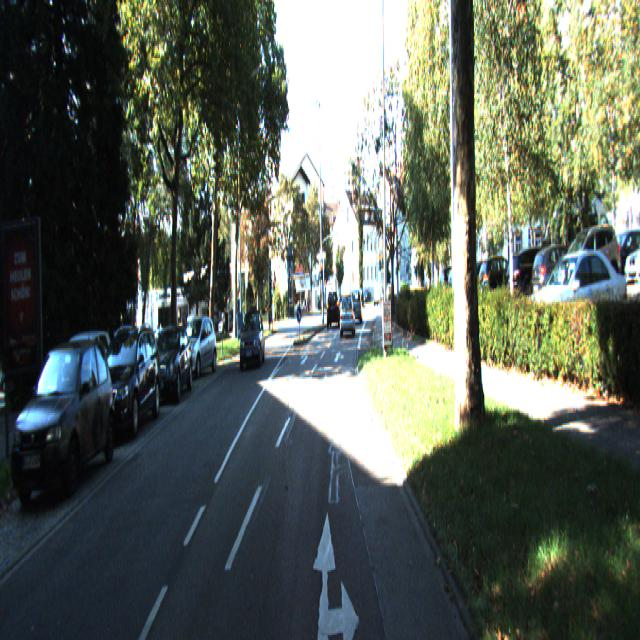Car: (10, 337, 115, 518), (85, 322, 162, 446), (147, 324, 193, 404), (176, 316, 217, 379), (239, 312, 265, 370), (340, 298, 355, 339)
